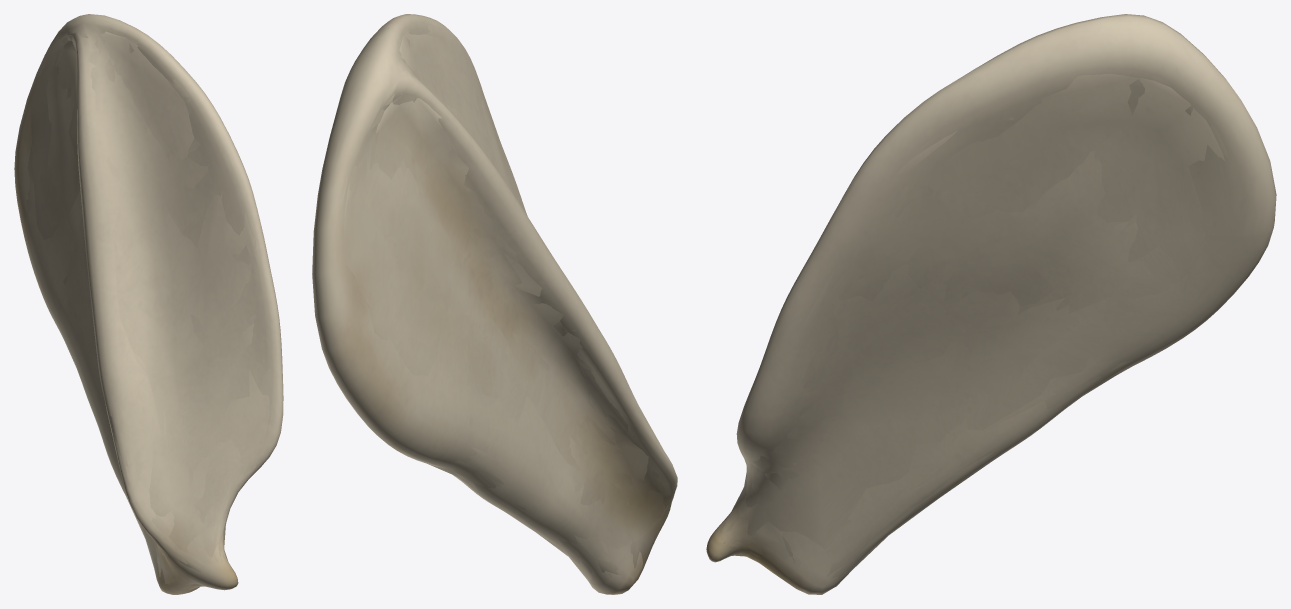
Rendered from R Scapula.fbx.
3 renders of one model, left to right at view 1: azimuth 30°, elevation 25°; view 2: azimuth 150°, elevation 25°; view 3: azimuth 270°, elevation 25°, orthographic. The views are drawn at different scales.
Parts seen in each view (by area): view 1: R Scapula high, R Scapula low, R Scapula; view 2: R Scapula high, R Scapula low, R Scapula; view 3: R Scapula low, R Scapula high, R Scapula.
Boxes of the visible parts, x1,y1,x2,y2 form: R Scapula high: (14,14,283,594); R Scapula low: (27,31,269,589); R Scapula: (26,29,278,589); R Scapula high: (312,14,677,594); R Scapula low: (344,31,668,581); R Scapula: (341,25,667,578); R Scapula low: (720,74,1224,576); R Scapula high: (706,14,1276,594); R Scapula: (719,75,1228,579).
Bounding box in the file's own units: 7.59 × 24.63 × 21.01.
Materials: 1 (1 with a texture image).
